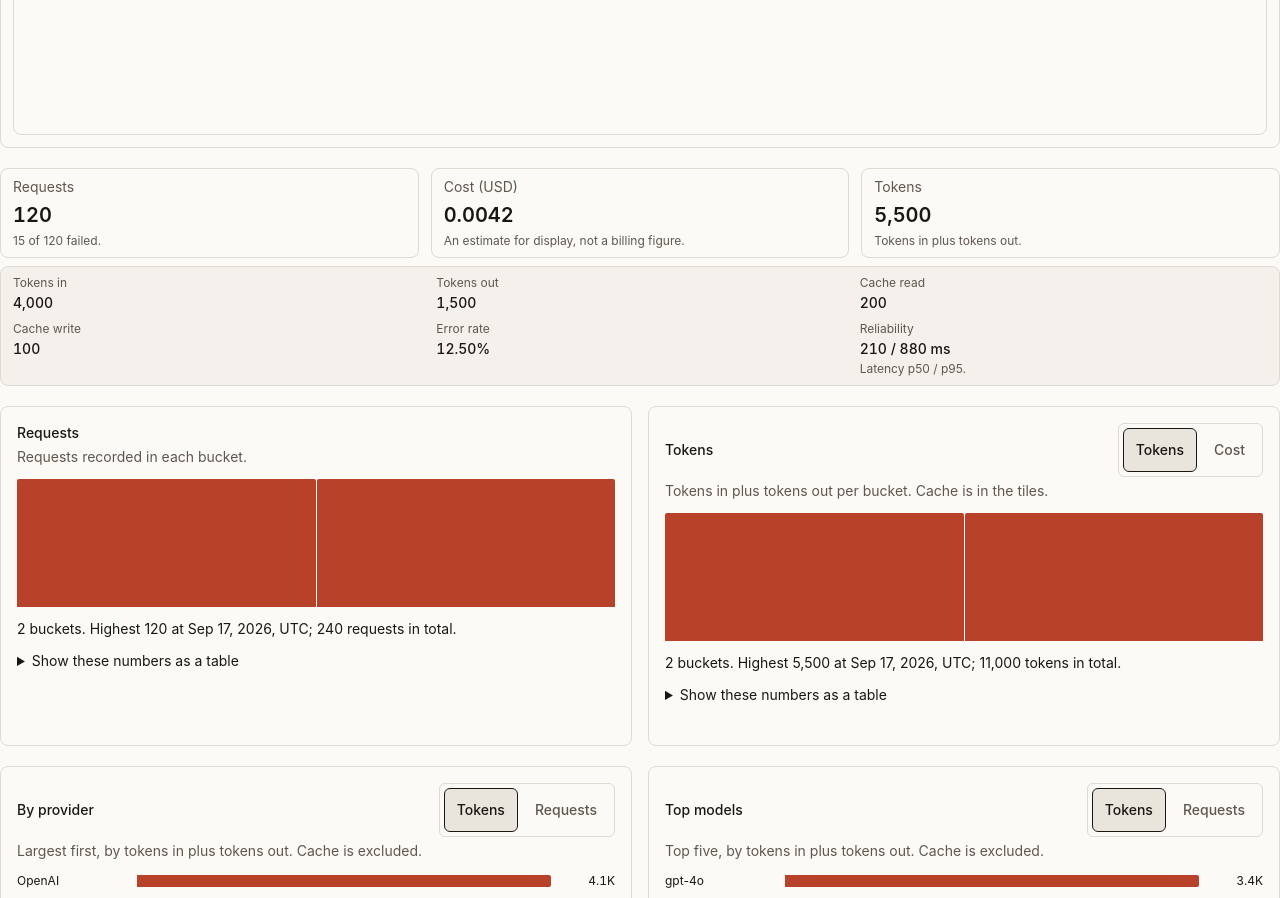
UsageOverviewTab value chart › goes back to tokens when the first mode is chosen again
(page scrolled)
expect the text "Requests recorded in each bucket." is shown: met, box 17,448 -> 247,465
Click the button "Cost" at (1230, 450), box 1201,428 -> 1258,472
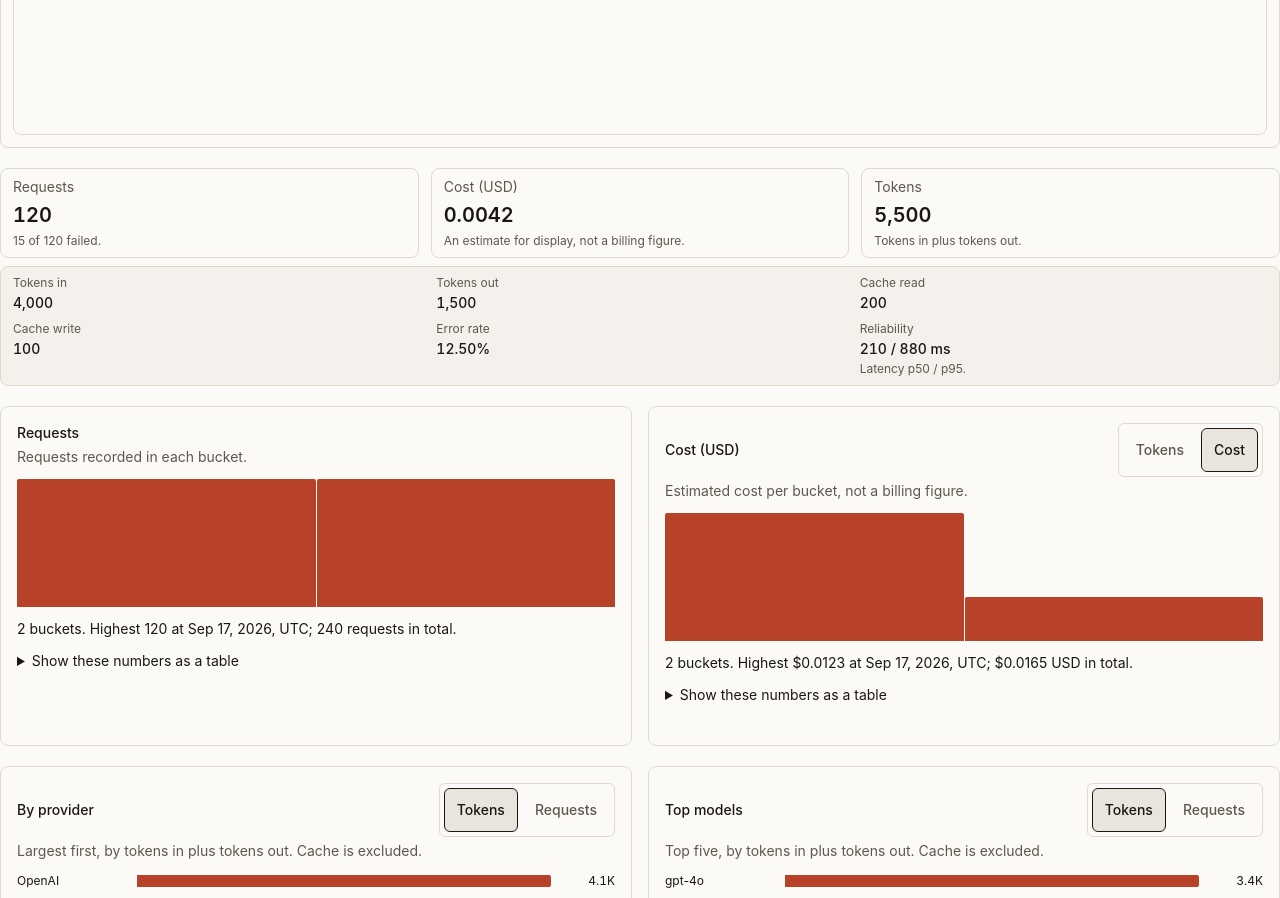
expect the text "Estimated cost per bucket, not a billing figure." is shown: met, box 665,482 -> 968,499
Click the button "Tokens" in the row of "Requests recorded in each bucket." at (1160, 450), box 1123,428 -> 1197,472
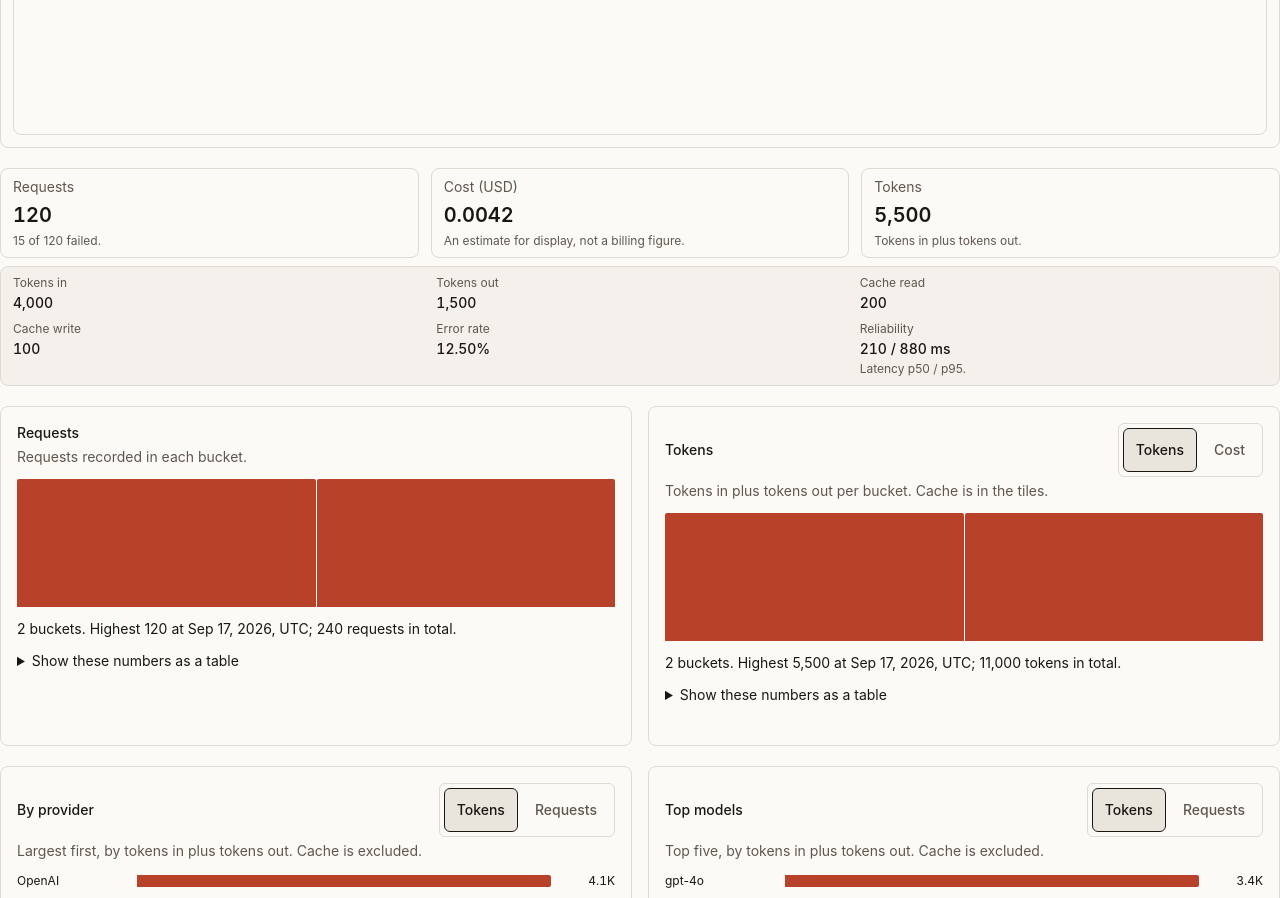
expect the text "Tokens in plus tokens out per bucket. Cache is in the tiles." is shown: met, box 665,482 -> 1048,499
expect the text "Estimated cost per bucket, not a billing figure." is gone: met
